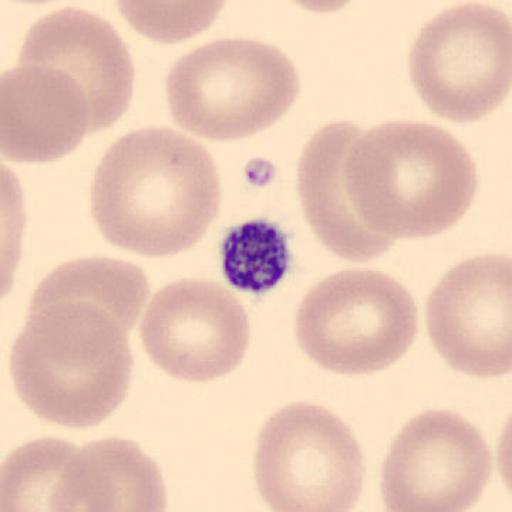Platelet: (218, 214, 295, 296)
RBC: (89, 124, 222, 258), (345, 117, 480, 243), (8, 298, 134, 431), (18, 4, 136, 136), (163, 35, 303, 144), (294, 118, 398, 264), (292, 268, 420, 378), (407, 0, 512, 126), (252, 398, 368, 512), (379, 407, 494, 512), (139, 278, 251, 384), (26, 253, 152, 345), (424, 251, 512, 381), (1, 65, 91, 165), (64, 434, 168, 512), (1, 434, 87, 511), (112, 0, 230, 45), (0, 165, 26, 306), (46, 471, 119, 512), (490, 414, 512, 512), (275, 0, 366, 17), (496, 416, 512, 501), (0, 0, 74, 6)
